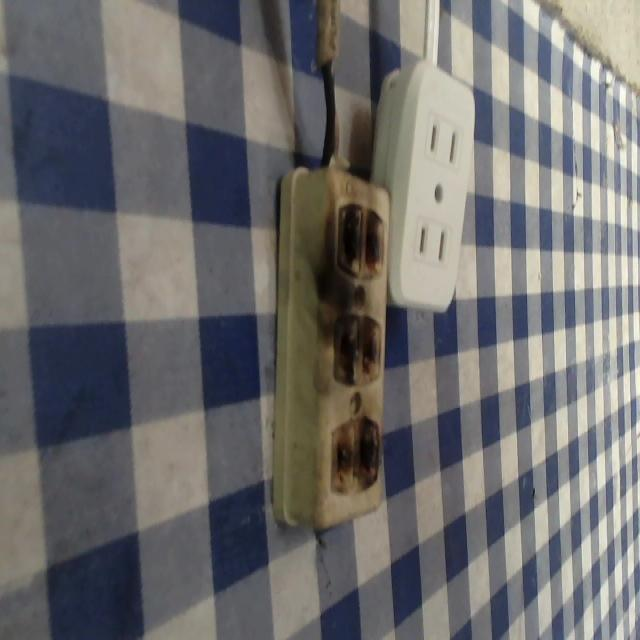-: (328, 200, 392, 284), (329, 412, 384, 496), (330, 311, 386, 389)
